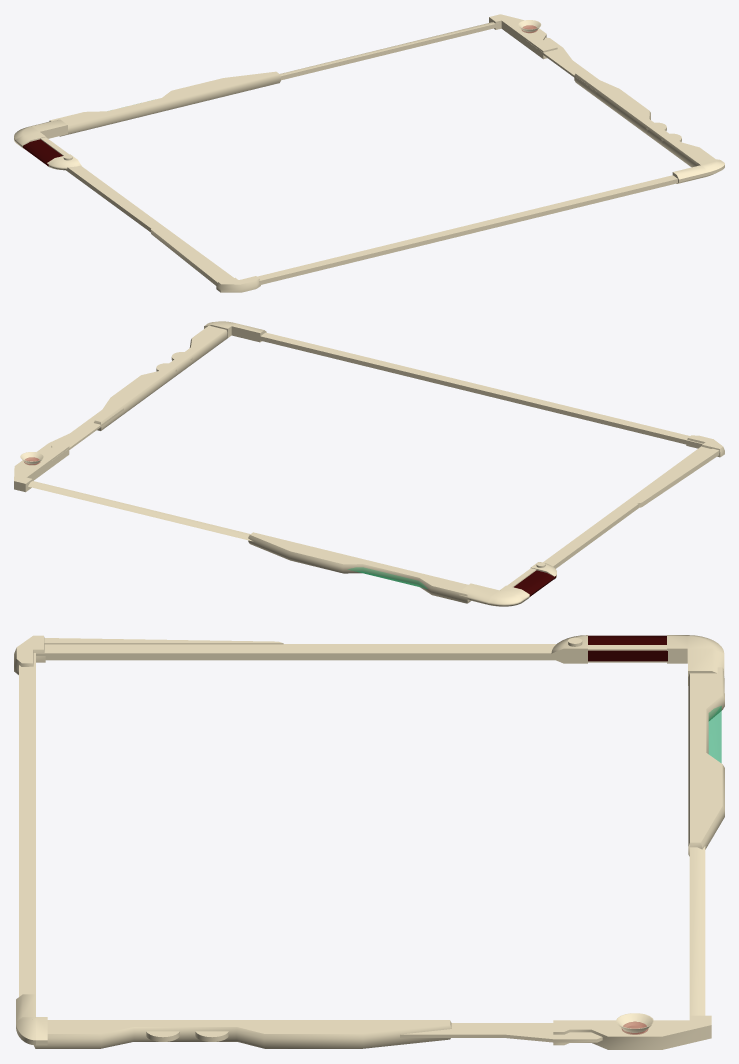
Rendered from TechnoWindow Shape.obj.
3 renders of one model, top to bottom at view 1: azimuth 30°, elevation 25°; view 2: azimuth 150°, elevation 25°; view 3: azimuth 270°, elevation 25°, orthographic. The views are drawn at different scales.
Bounding box in the file's own units: 703 × 18.11 × 521.
